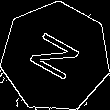N_SE: (24, 27, 87, 87)
